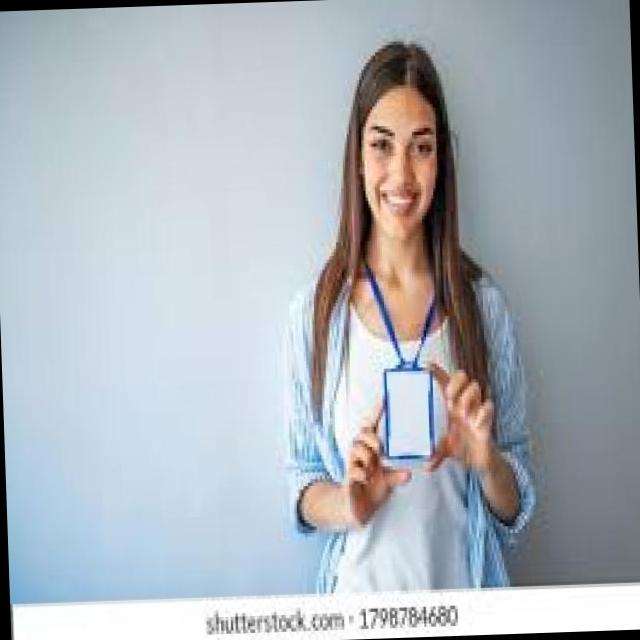id_card: (374, 258, 450, 467)
